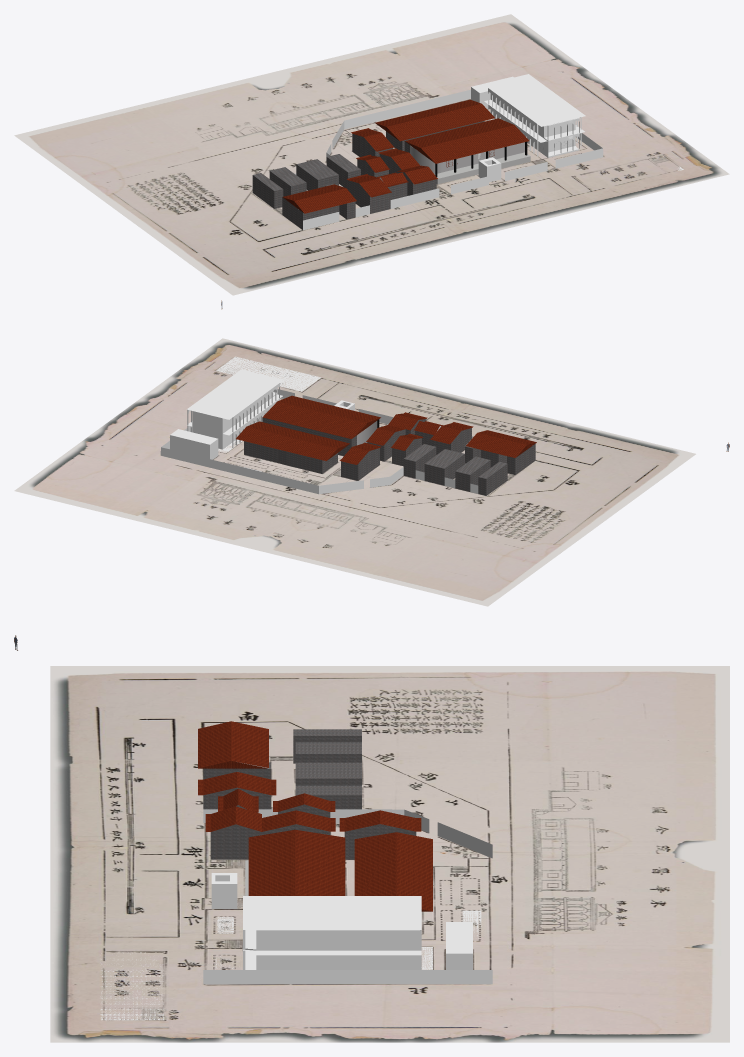
The model's file is tung-wah-old.glb.
3 views of the same model, one above another, from view 1: azimuth 30°, elevation 25°; view 2: azimuth 150°, elevation 25°; view 3: azimuth 270°, elevation 25° (orthographic). The views are drawn at different scales.
Parts seen in each view (by area): view 1: mesh_39_ROOT__建立群組__東華醫院floor_plan..jpeg_Layer0, mesh_0_ROOT_Layer0_255_255_255_ds, mesh_1_ROOT_Layer0_138_64_36_ss, mesh_3_ROOT_Layer0_135_132_132_ss, mesh_23_ROOT__Main_Hall_&_Administrative_Rooms_Layer0, mesh_22_ROOT__Front_Chin_Po_Layer0; view 2: mesh_39_ROOT__建立群組__東華醫院floor_plan..jpeg_Layer0, mesh_0_ROOT_Layer0_255_255_255_ds, mesh_1_ROOT_Layer0_138_64_36_ss, mesh_3_ROOT_Layer0_135_132_132_ss; view 3: mesh_39_ROOT__建立群組__東華醫院floor_plan..jpeg_Layer0, mesh_0_ROOT_Layer0_255_255_255_ds, mesh_1_ROOT_Layer0_138_64_36_ss, mesh_3_ROOT_Layer0_135_132_132_ss.
Boxes of the visible parts, bbox=[...] form: mesh_39_ROOT__建立群組__東華醫院floor_plan..jpeg_Layer0: bbox=[14, 14, 729, 295]; mesh_0_ROOT_Layer0_255_255_255_ds: bbox=[295, 74, 683, 230]; mesh_1_ROOT_Layer0_138_64_36_ss: bbox=[282, 99, 529, 213]; mesh_3_ROOT_Layer0_135_132_132_ss: bbox=[252, 121, 484, 229]; mesh_23_ROOT__Main_Hall_&_Administrative_Rooms_Layer0: bbox=[410, 142, 524, 174]; mesh_22_ROOT__Front_Chin_Po_Layer0: bbox=[434, 152, 530, 184]; mesh_39_ROOT__建立群組__東華醫院floor_plan..jpeg_Layer0: bbox=[14, 338, 695, 606]; mesh_0_ROOT_Layer0_255_255_255_ds: bbox=[160, 356, 478, 494]; mesh_1_ROOT_Layer0_138_64_36_ss: bbox=[236, 395, 536, 464]; mesh_3_ROOT_Layer0_135_132_132_ss: bbox=[244, 417, 535, 495]; mesh_39_ROOT__建立群組__東華醫院floor_plan..jpeg_Layer0: bbox=[50, 666, 729, 1042]; mesh_0_ROOT_Layer0_255_255_255_ds: bbox=[100, 763, 492, 1020]; mesh_1_ROOT_Layer0_138_64_36_ss: bbox=[198, 721, 432, 911]; mesh_3_ROOT_Layer0_135_132_132_ss: bbox=[203, 729, 416, 859].
Size of the model in its own units: 109643 by 6674 by 84130.
Materials: 26 (8 with a texture image).
